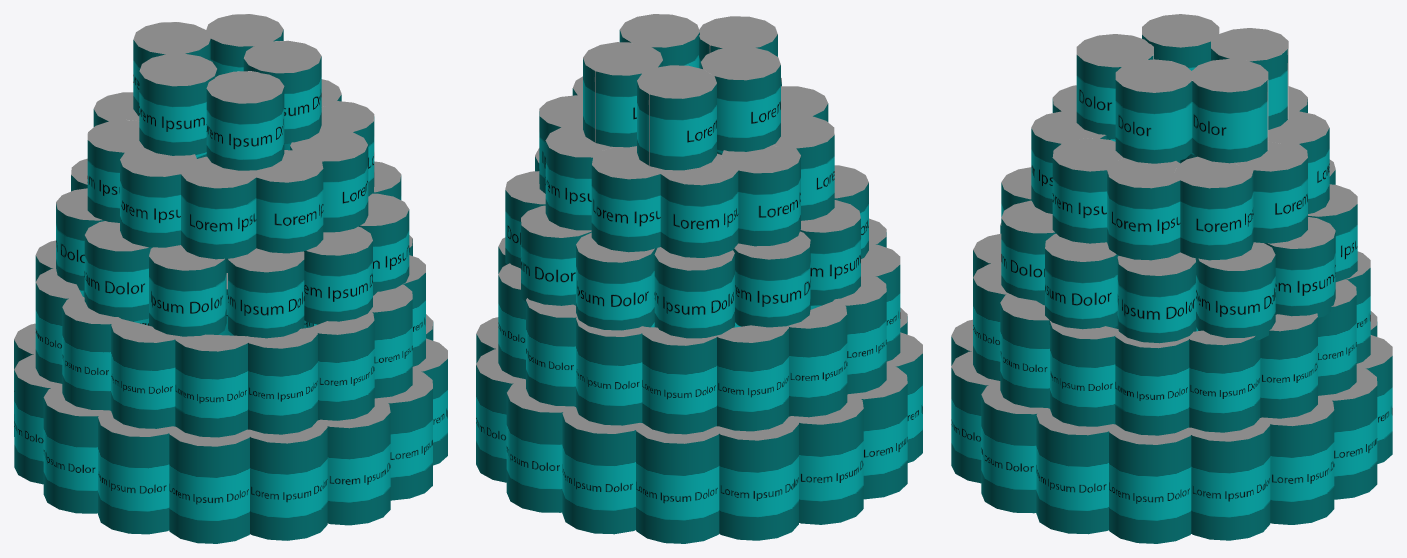
The model's file is StackOfCans.fbx.
The picture shows the model from 3 angles, left to right: view 1: azimuth 30°, elevation 25°; view 2: azimuth 150°, elevation 25°; view 3: azimuth 270°, elevation 25°; orthographic projection. The views are drawn at different scales.
Visible parts, largest first — view 1: objCylinderTest1:polySurface1; view 2: objCylinderTest1:polySurface1; view 3: objCylinderTest1:polySurface1.
Part boxes in pixels (x1,y1,x2,y2): objCylinderTest1:polySurface1: [14, 14, 447, 543]; objCylinderTest1:polySurface1: [476, 14, 922, 543]; objCylinderTest1:polySurface1: [951, 14, 1392, 543].
Size of the model in its own units: 0.6086 by 0.5993 by 0.6051.
1 material, 1 textured.
